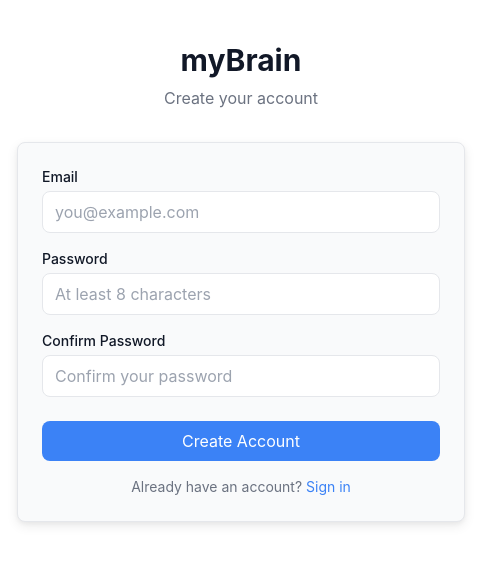
Test: SignupPage › Client-Side Validation › shows error when submitting with empty fields
Click the button "Create Account": (241, 441) [42,421,440,461]
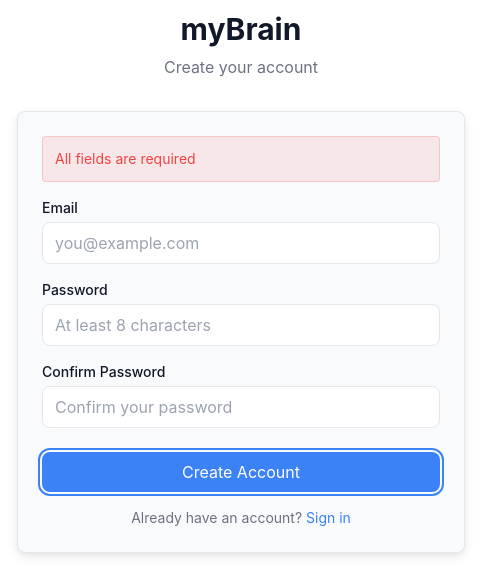
Result: the text "All fields are required" is shown at [42,136,440,182]
